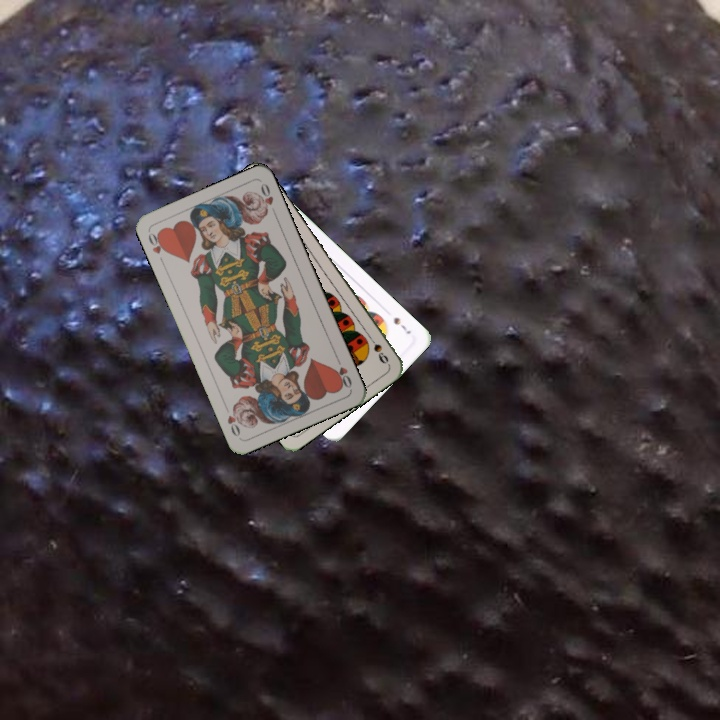HO: (144, 228, 170, 267), (331, 352, 354, 391)
S7: (390, 313, 414, 337)
S9: (364, 330, 391, 366)
